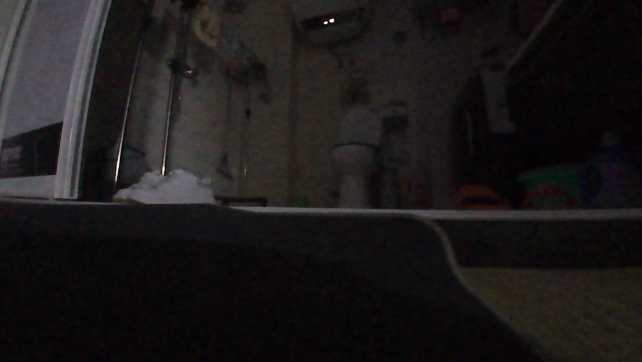blanket: (0, 200, 544, 359)
shoe: (124, 165, 217, 206)
toilet: (328, 100, 386, 210)
